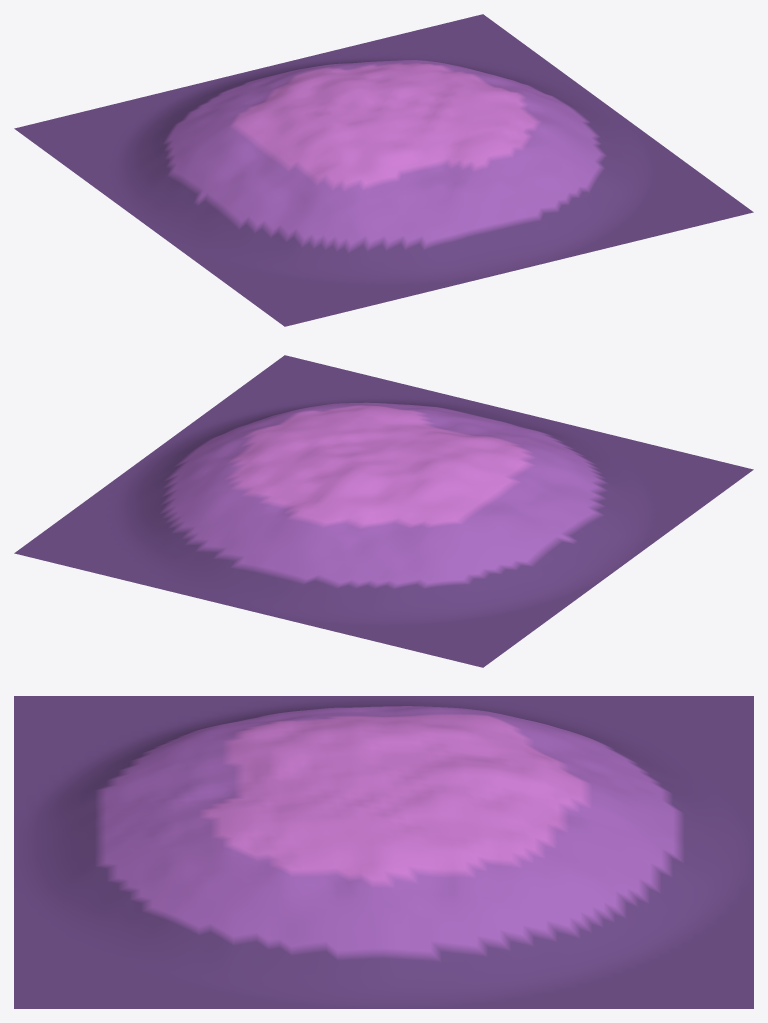
Rendered from terrain_demo.glb.
3 renders of one model, top to bottom at view 1: azimuth 30°, elevation 25°; view 2: azimuth 150°, elevation 25°; view 3: azimuth 270°, elevation 25°, orthographic. The views are drawn at different scales.
Visible parts, largest first — view 1: terrain_demo; view 2: terrain_demo; view 3: terrain_demo.
Boxes of the visible parts, <box> form: terrain_demo: <box>14,14,753,326</box>; terrain_demo: <box>14,355,753,667</box>; terrain_demo: <box>14,696,753,1008</box>.
Bounding box in the file's own units: 100 × 12.43 × 100.
